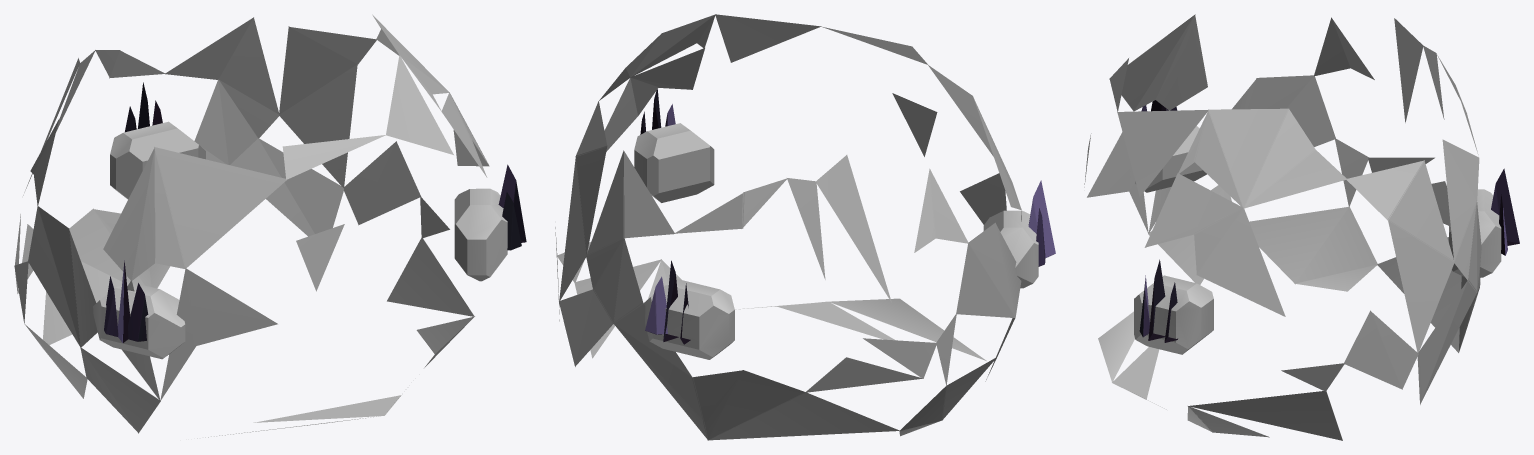
The model's file is vein_rock_a_obsidian.glb.
The picture shows the model from 3 angles, left to right: view 1: azimuth 30°, elevation 25°; view 2: azimuth 150°, elevation 25°; view 3: azimuth 270°, elevation 25°; orthographic projection.
Size of the model in its own units: 1.63 by 1.2 by 1.51.
